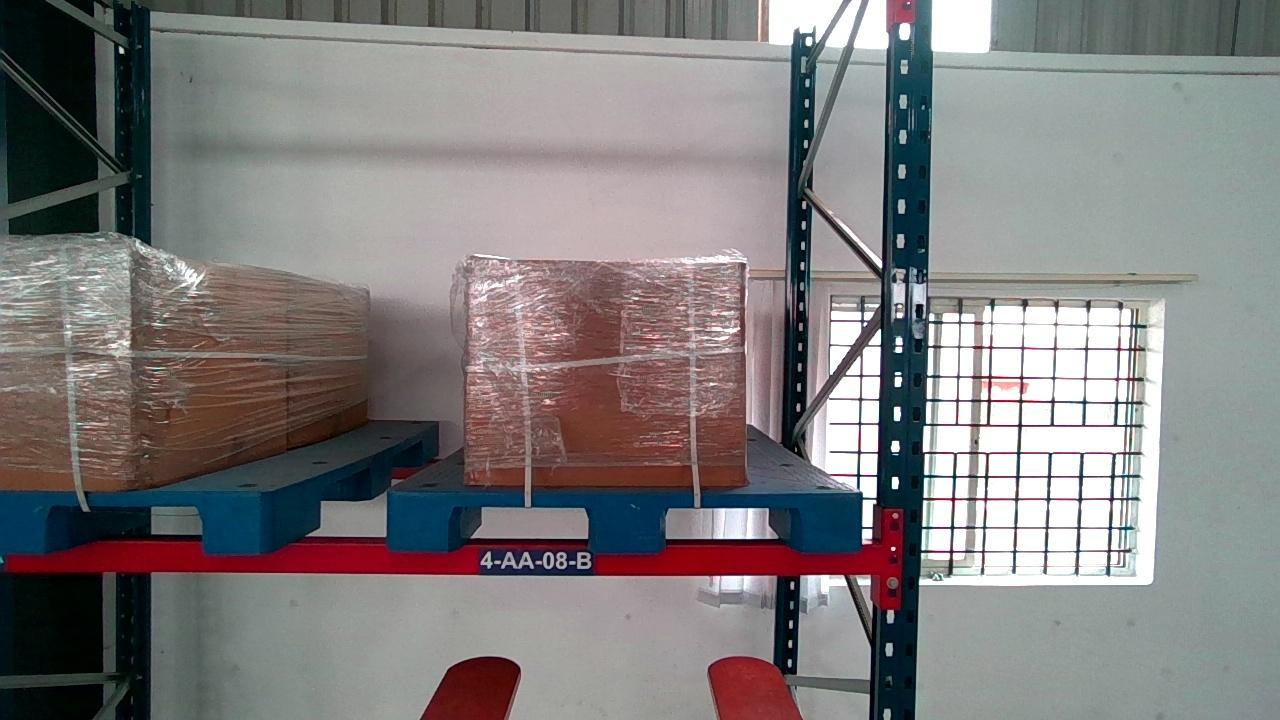h_rack: (0, 541, 874, 573)
small_pallet: (388, 491, 857, 548), (1, 490, 261, 551)
